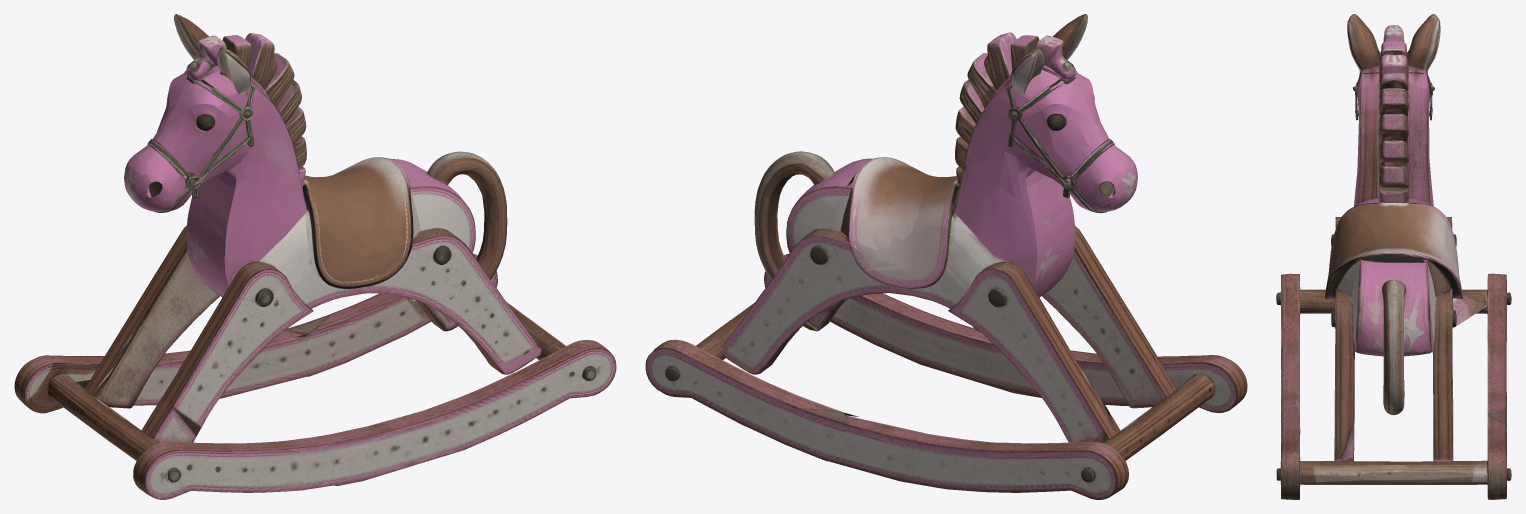
The model's file is cavallo_dondolo_N.glb.
The picture shows the model from 3 angles, left to right: view 1: azimuth 30°, elevation 25°; view 2: azimuth 150°, elevation 25°; view 3: azimuth 270°, elevation 25°; orthographic projection. The views are drawn at different scales.
Bounding box in the file's own units: 1.9 × 1.64 × 0.9441.
1 material, 1 textured.
